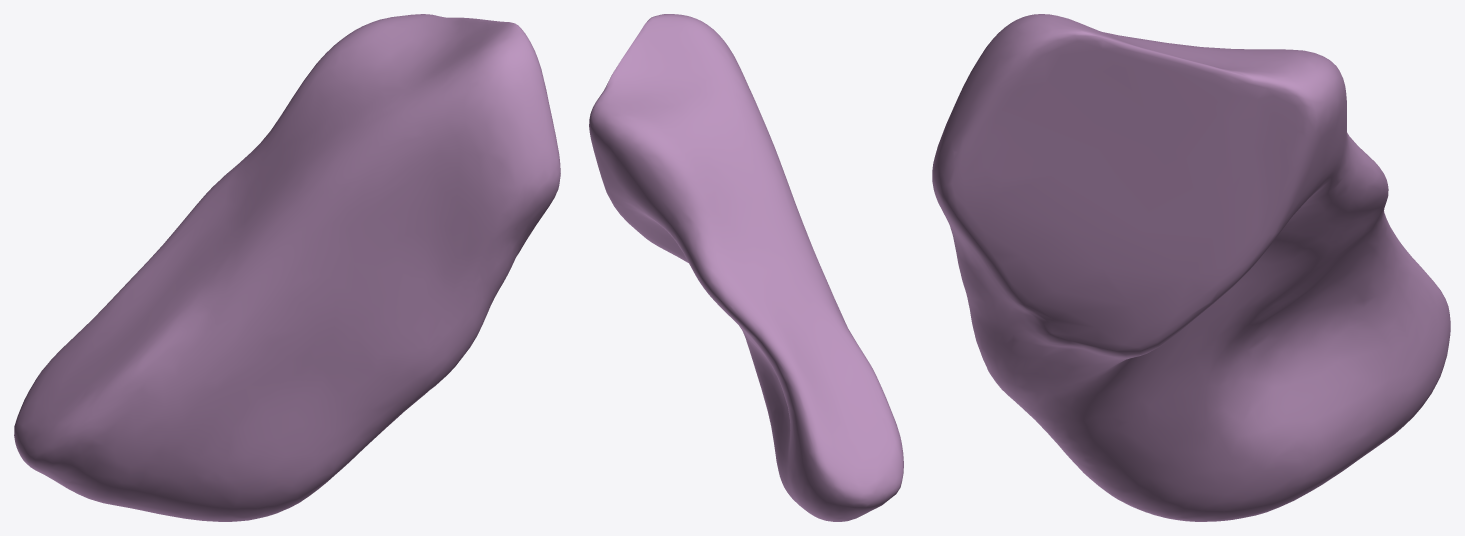
3 views of the same model, side by side, from view 1: azimuth 30°, elevation 25°; view 2: azimuth 150°, elevation 25°; view 3: azimuth 270°, elevation 25° (orthographic). The views are drawn at different scales.
Visible parts, largest first — view 1: 右侧前方形小叶; view 2: 右侧前方形小叶; view 3: 右侧前方形小叶.
Part boxes in pixels (<box>): 右侧前方形小叶: <box>14,14,560,521</box>; 右侧前方形小叶: <box>589,14,903,521</box>; 右侧前方形小叶: <box>932,14,1450,521</box>.
Bounding box in the file's own units: 0.0449 × 0.0513 × 0.0369.
